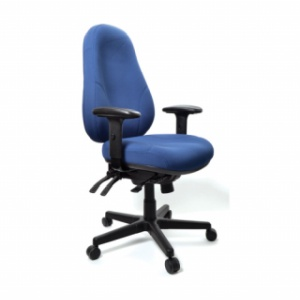chair: (82, 24, 218, 275)
